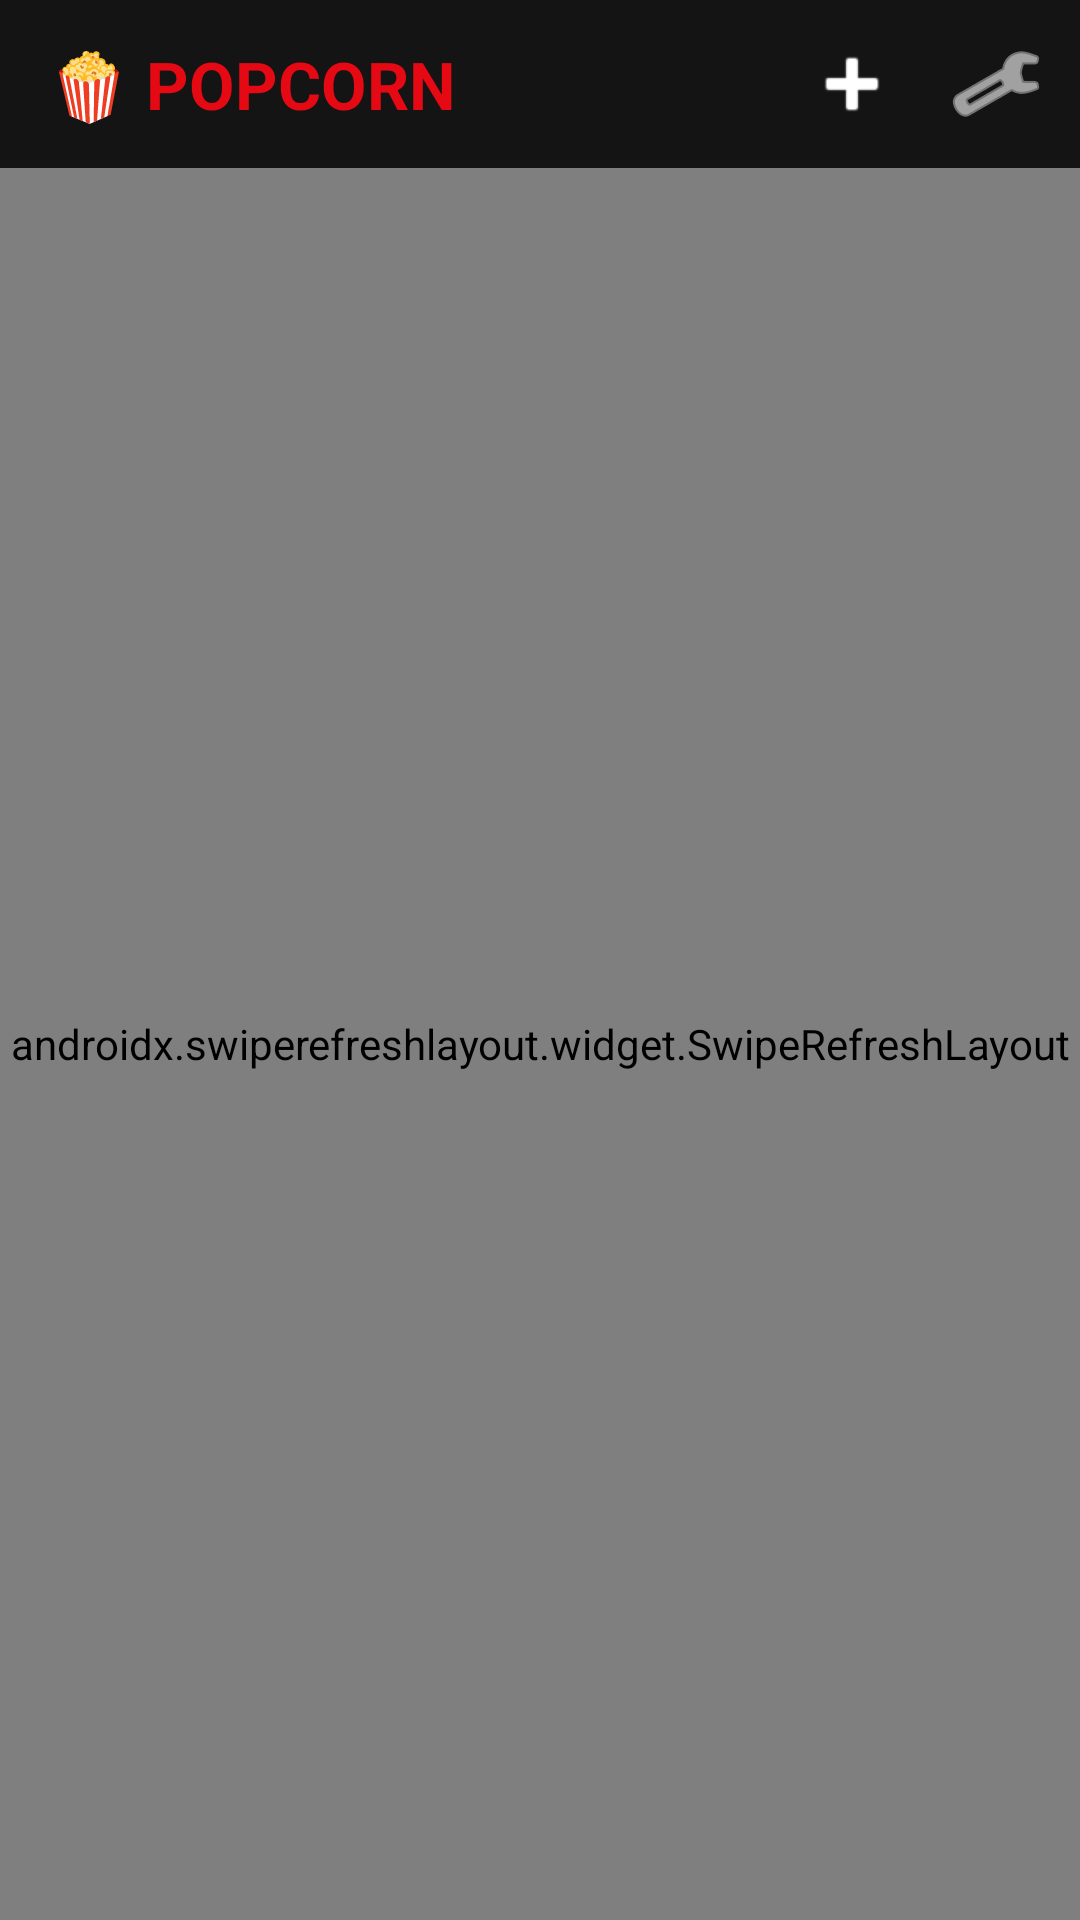

Named icons in this screenshot (1080 x 1920) and their centers, [x,y]:
Impostazioni: [996,84]
